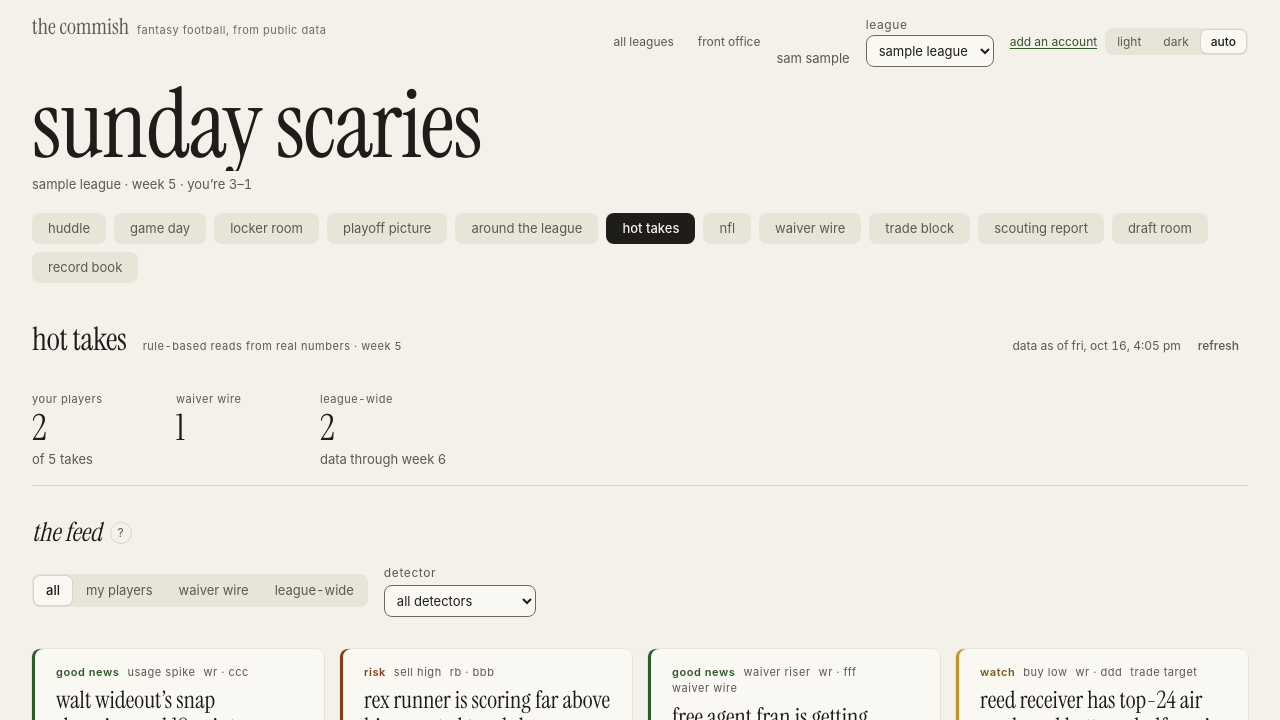
Test: hot takes feed (/takes) › filters by scope and by detector kind
Click the radio button labelled "my players" at (119, 590), box [74, 576, 164, 605]
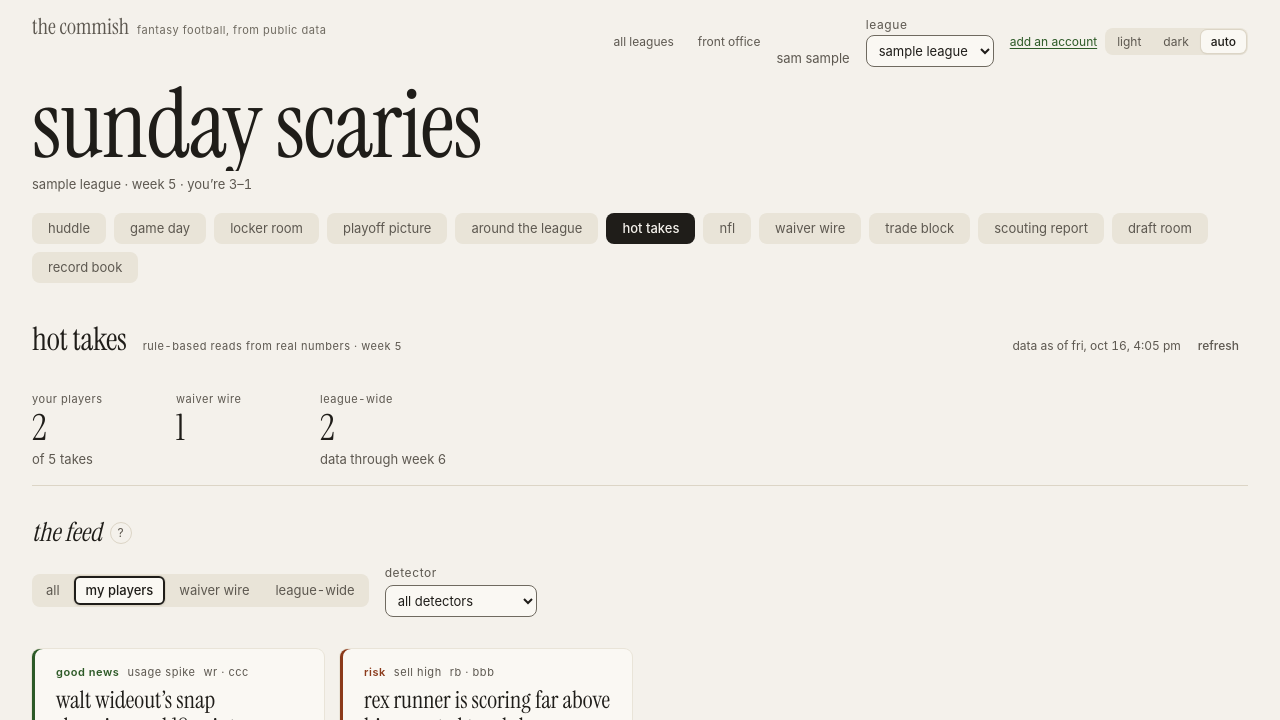
Click the radio button labelled "waiver wire" at (214, 590), box [167, 576, 262, 605]
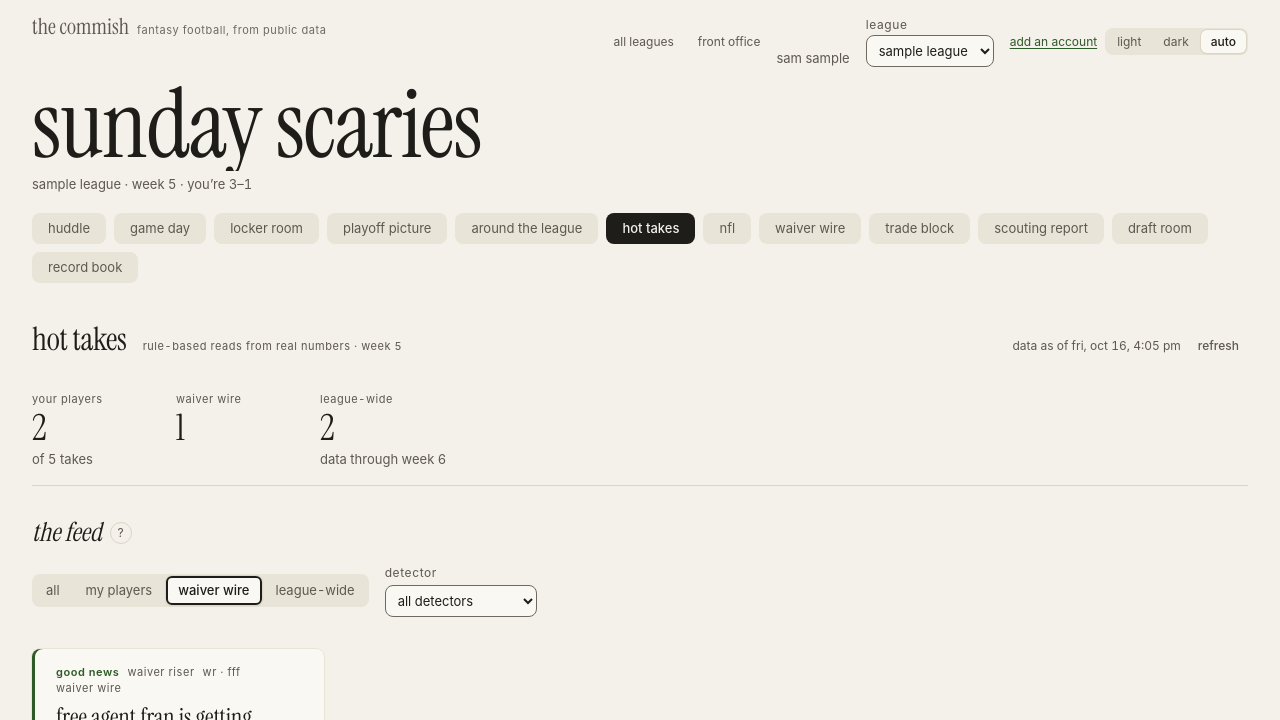
Click the radio button labelled "league-wide" at (315, 590), box [264, 576, 367, 605]
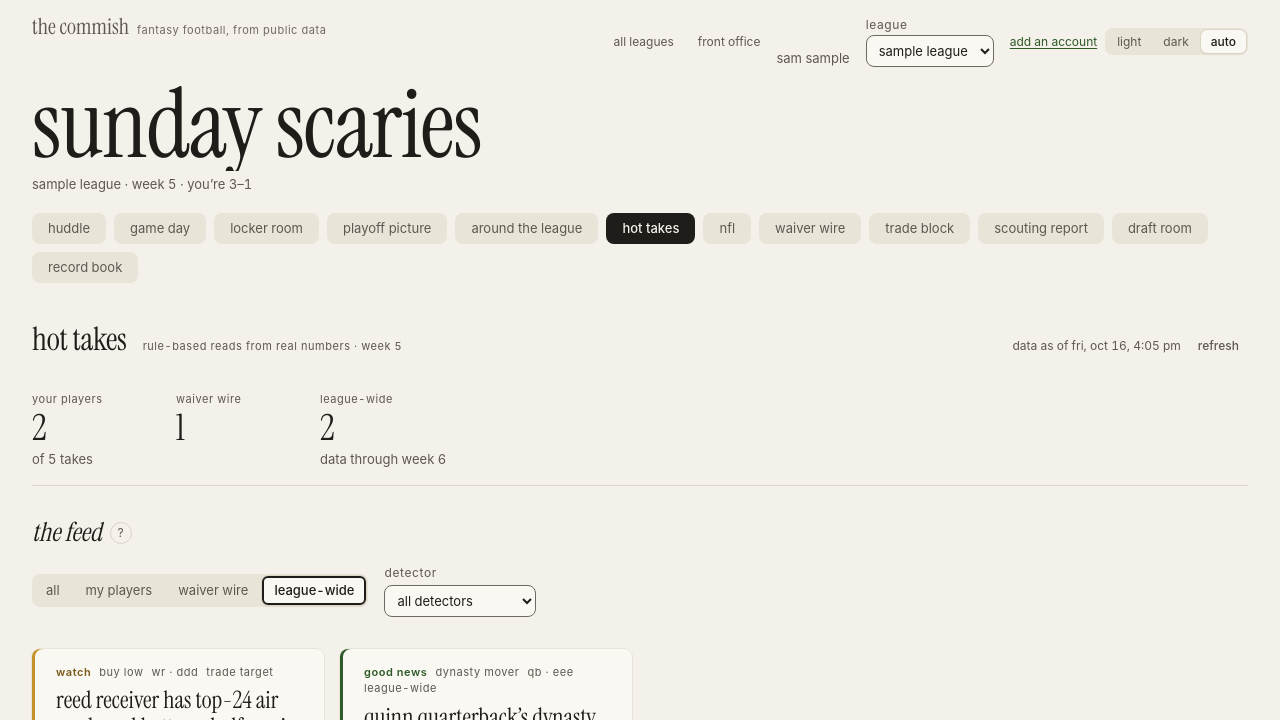
Click the radio button labelled "all" at (53, 590), box [34, 576, 72, 605]
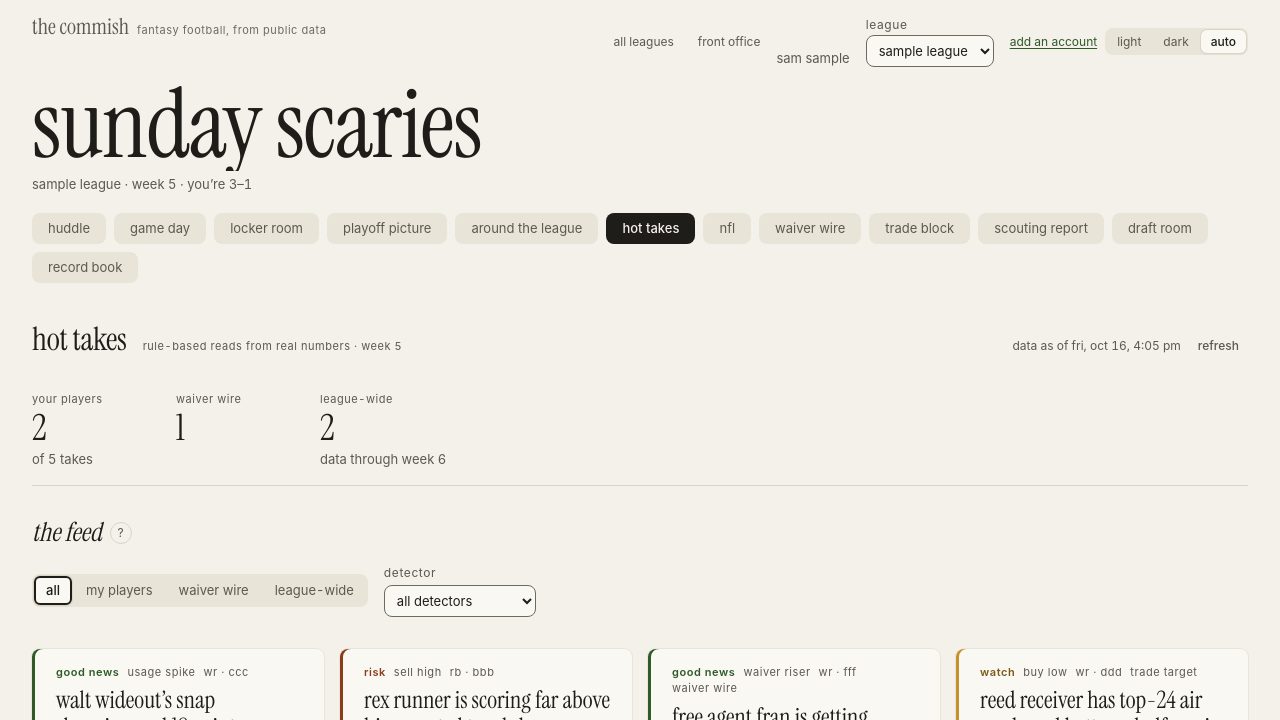
Select "sell high (1)" in the dropdown named "Detector kind" at (460, 601), box [384, 585, 536, 617]
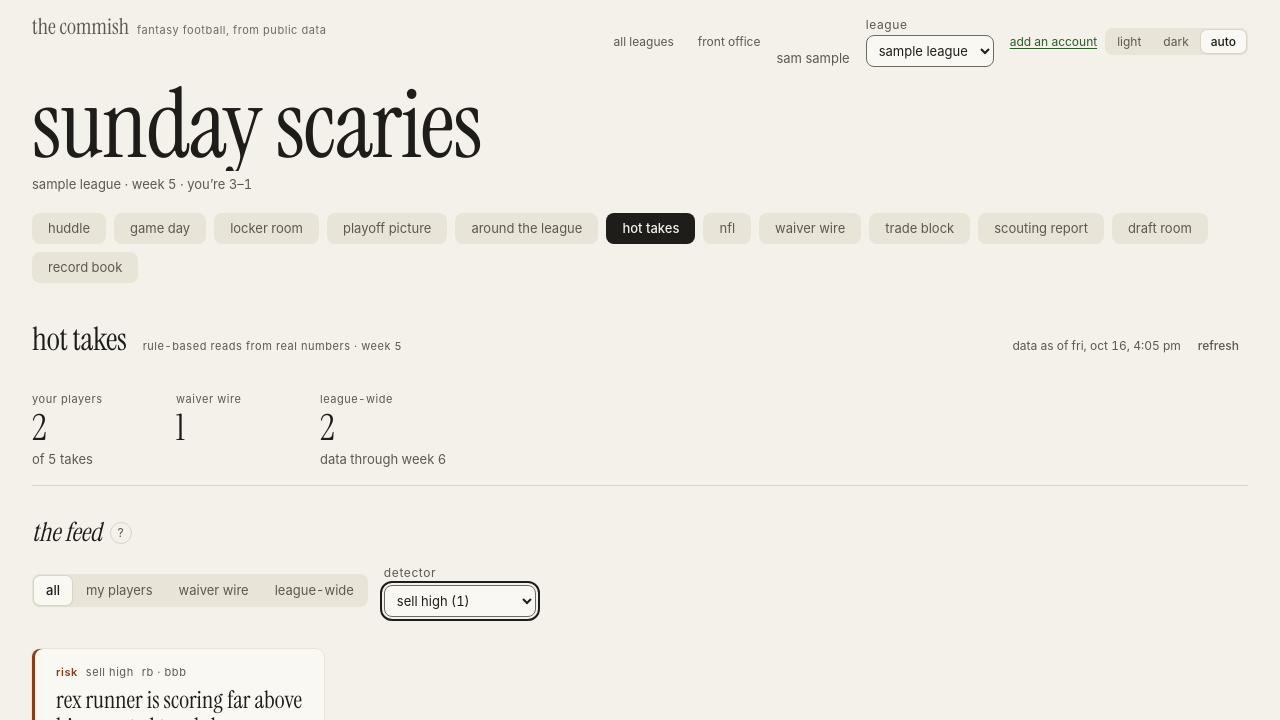
Note: a scope and a kind that do not meet say so instead of the quiet-week line
Click the radio button labelled "waiver wire" at (214, 590), box [166, 576, 261, 605]
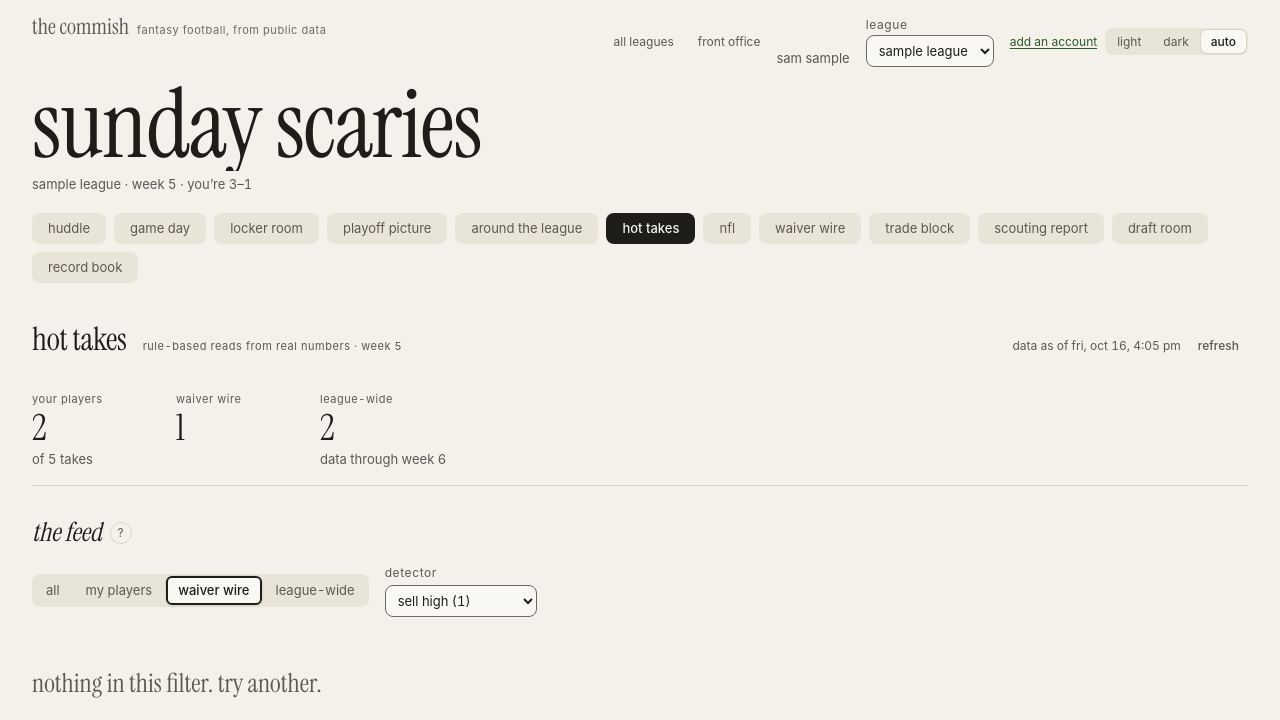
Result: the text "nothing in this filter. try another." is shown at [32, 666, 322, 700]
